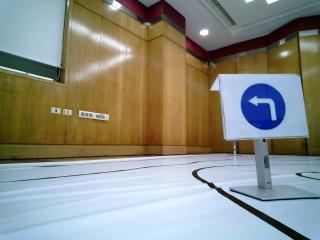left: (228, 80, 308, 136)
